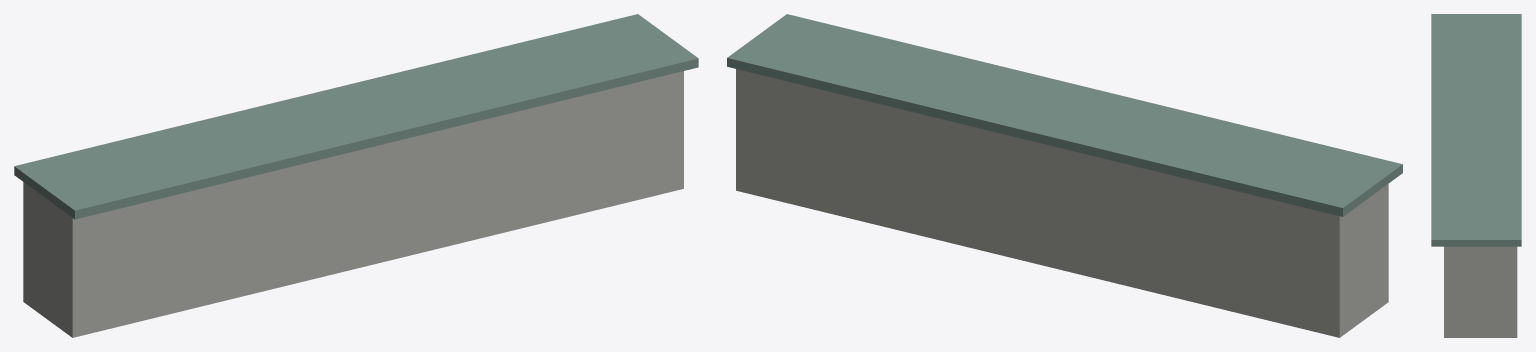
File: mov_de34428ee6.gltf
The picture shows the model from 3 angles, left to right: view 1: azimuth 30°, elevation 25°; view 2: azimuth 150°, elevation 25°; view 3: azimuth 270°, elevation 25°; orthographic projection. The views are drawn at different scales.
Visible parts, largest first — view 1: mov_de34428ee6; view 2: mov_de34428ee6; view 3: mov_de34428ee6.
Boxes of the visible parts, <box> form: mov_de34428ee6: <box>14,14,698,337</box>; mov_de34428ee6: <box>727,14,1402,337</box>; mov_de34428ee6: <box>1431,14,1521,337</box>.
Bounding box in the file's own units: 5.1 × 1.05 × 0.86.
